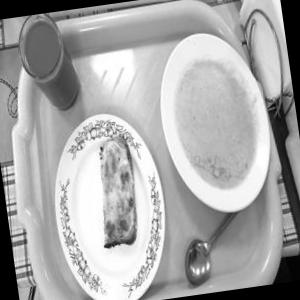cheese_sandwich: (86, 128, 152, 254)
coffee: (7, 14, 90, 127)
porridge: (150, 34, 276, 216)
